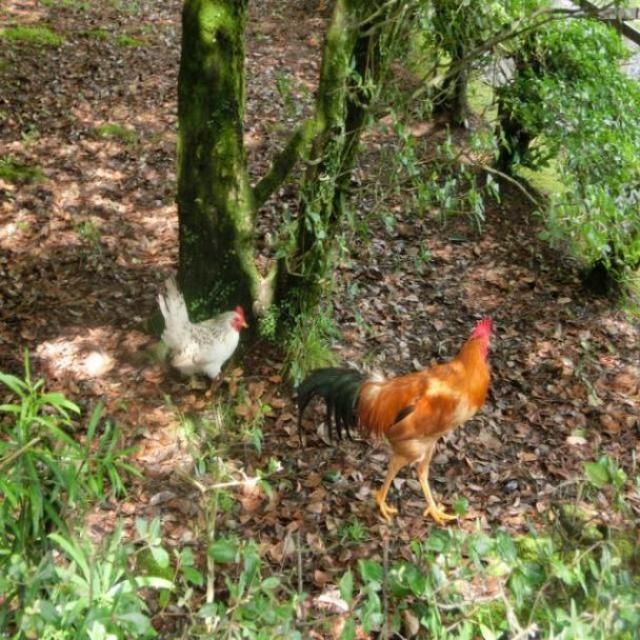Chicken: (291, 311, 496, 532), (157, 274, 248, 396)
